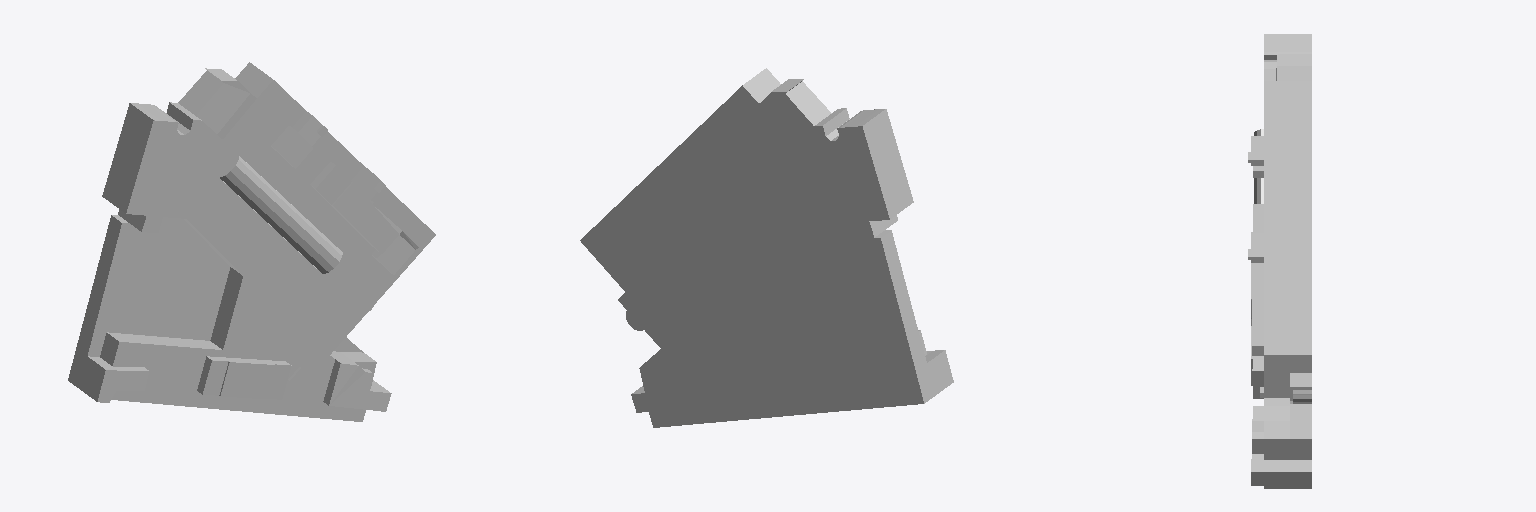
File: talo_Build0000045.obj
3 renders of one model, left to right at view 1: azimuth 30°, elevation 25°; view 2: azimuth 150°, elevation 25°; view 3: azimuth 270°, elevation 25°, orthographic.
Bounding box in the file's own units: 109 × 112 × 17.47.